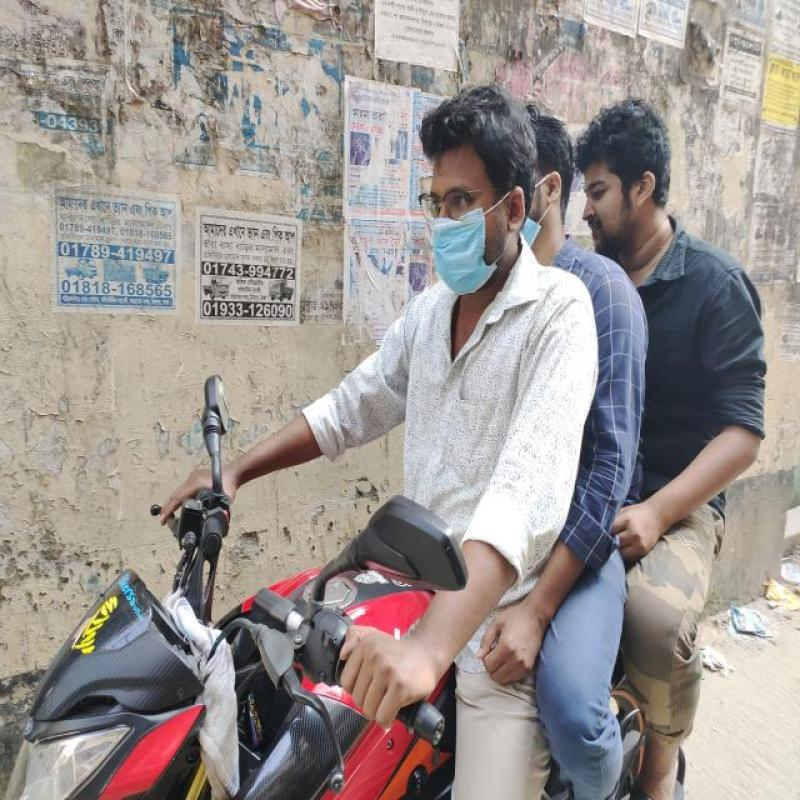nohelmet: (424, 82, 524, 294), (572, 102, 670, 248)
